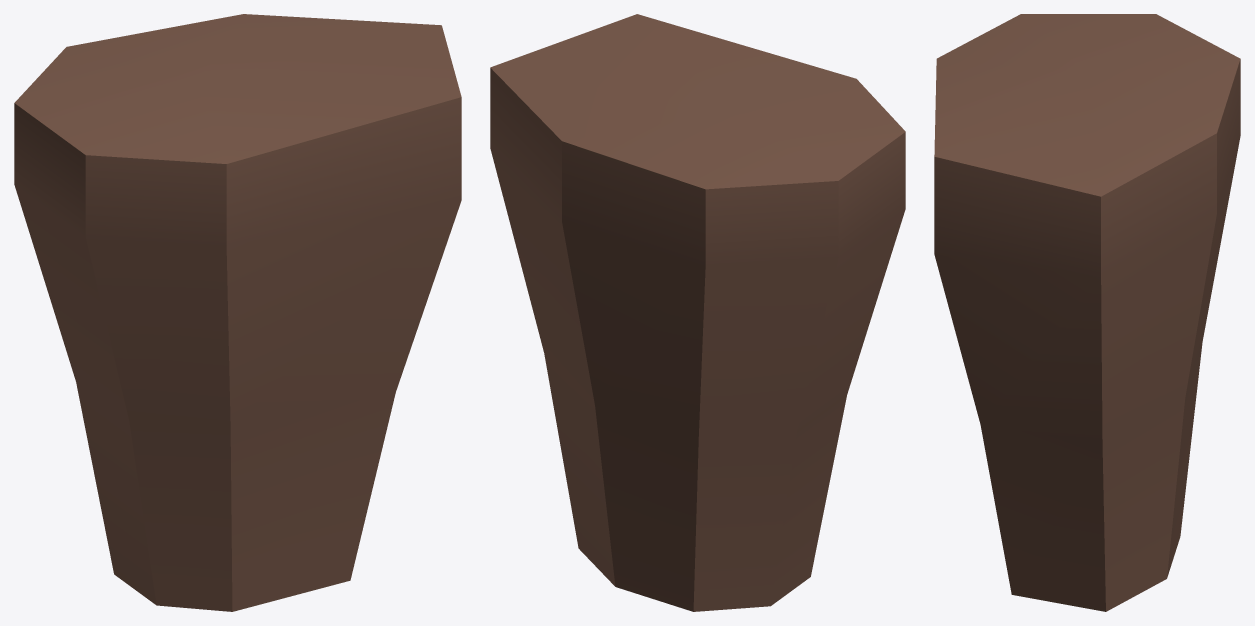
File: Trunk 1.fbx
3 renders of one model, left to right at view 1: azimuth 30°, elevation 25°; view 2: azimuth 150°, elevation 25°; view 3: azimuth 270°, elevation 25°, orthographic. The views are drawn at different scales.
Parts seen in each view (by area): view 1: Trunk; view 2: Trunk; view 3: Trunk.
Boxes of the visible parts, bbox=[...] form: Trunk: bbox=[14, 14, 461, 611]; Trunk: bbox=[490, 14, 905, 611]; Trunk: bbox=[934, 14, 1240, 611].
Size of the model in its own units: 2.04 by 2.43 by 1.43.
